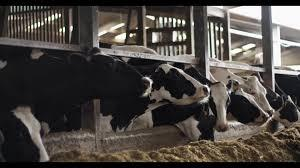cow: (0, 45, 153, 135), (97, 62, 211, 130), (153, 63, 232, 133), (208, 67, 277, 118), (248, 70, 300, 129), (0, 106, 50, 162), (228, 89, 271, 126)
